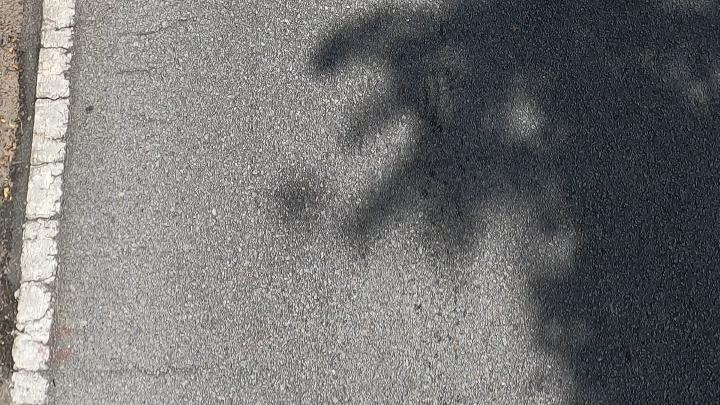Lane: (7, 0, 78, 405), (12, 0, 75, 404)
